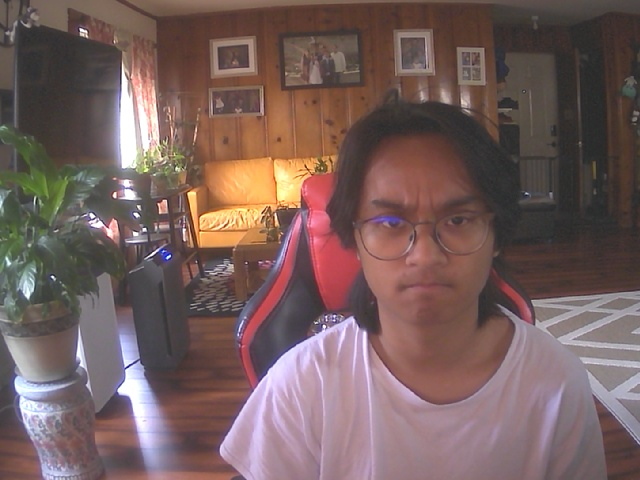anger: (349, 110, 508, 330)
